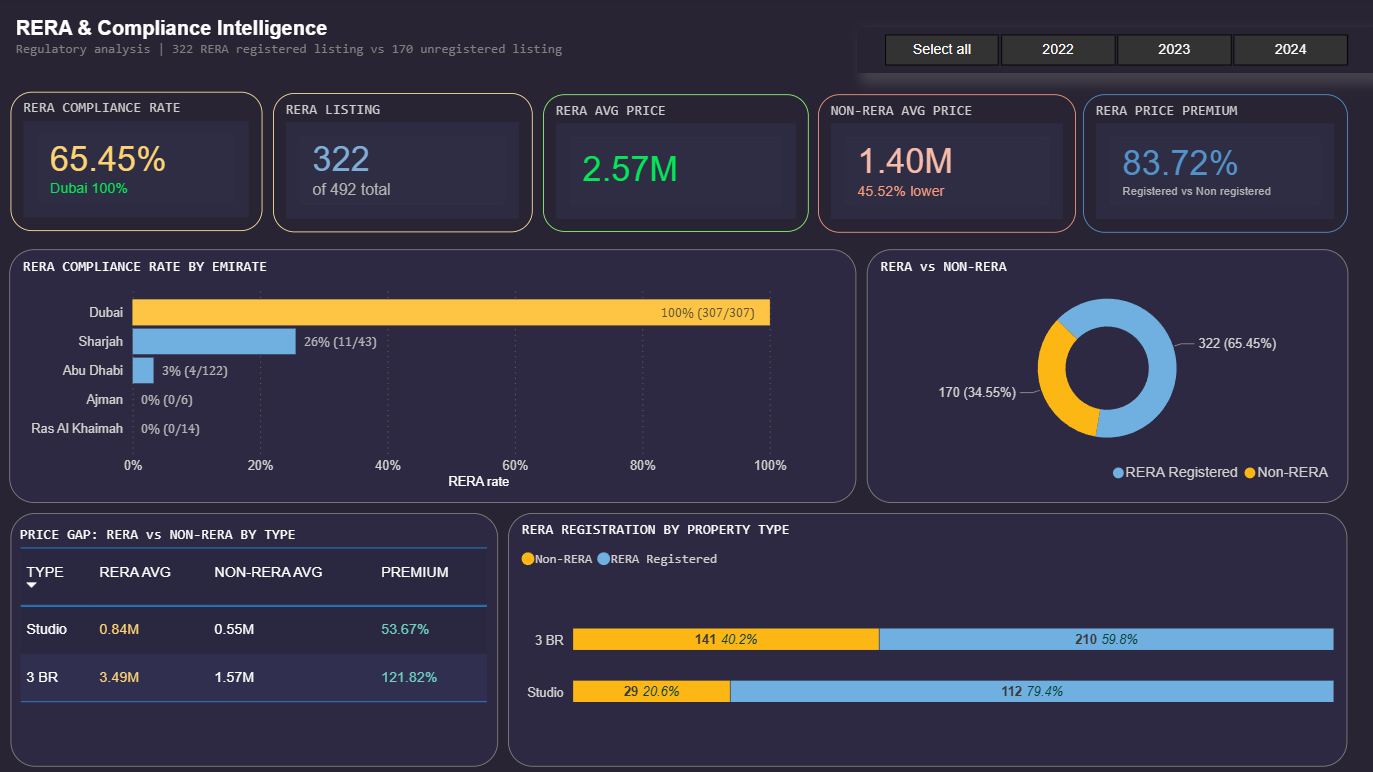

This screenshot's page, from the dashboard's own definition file:
{"tool":"powerbi","page":{"name":"RERA","canvas":[1280,720],"ordinal":1},"visuals":[{"type":"textbox","box":[11.2,12.5,528.8,56.2],"z":0},{"type":"cardVisual","title":"RERA COMPLIANCE RATE","fields":{"Data":["uae_property_db vw_listings_detail.RERA Compliance Rate"]},"box":[11.8,87.1,234.1,129.4],"z":1000},{"type":"clusteredBarChart","title":"RERA COMPLIANCE RATE BY EMIRATE","fields":{"Category":["uae_property_db vw_listings_detail.city"],"Y":["uae_property_db vw_listings_detail.City RERA Rate"]},"box":[10.7,233.3,788.1,235.7],"z":2000},{"type":"hundredPercentStackedBarChart","title":"RERA REGISTRATION BY PROPERTY TYPE","fields":{"Y":["CountNonNull(uae_property_db vw_listings_detail.rera status column)"],"Series":["uae_property_db vw_listings_detail.rera status column"],"Category":["uae_property_db vw_listings_detail.bedroom_category"]},"box":[475,478.6,781,235.7],"z":3000},{"type":"donutChart","title":"RERA vs NON-RERA","fields":{"Category":["uae_property_db vw_listings_detail.rera status column"],"Y":["CountNonNull(uae_property_db vw_listings_detail.rera status column)"]},"box":[808.3,233.3,447.6,235.7],"z":4000},{"type":"tableEx","title":"PRICE GAP: RERA vs NON-RERA BY TYPE","fields":{"Values":["uae_property_db vw_listings_detail.bedroom_category","uae_property_db vw_listings_detail.RERA Avg Price","uae_property_db vw_listings_detail.Non-RERA Avg Price","uae_property_db vw_listings_detail.RERA vs NonRERA Premium %"]},"box":[11.9,478.6,453.6,235.7],"z":6000},{"type":"slicer","title":"City","fields":{"Values":["uae_property_db vw_listings_detail.listing_year"]},"box":[798.8,26.2,481,42.9],"z":7000},{"type":"cardVisual","title":"RERA LISTING","fields":{"Data":["uae_property_db vw_listings_detail.RERA Listings"]},"box":[255.4,88.5,241.5,129.2],"z":8000},{"type":"cardVisual","title":"RERA AVG PRICE","fields":{"Data":["uae_property_db vw_listings_detail.RERA Avg Price"]},"box":[506.7,89.2,247.5,128.3],"z":9000},{"type":"cardVisual","title":"NON-RERA AVG PRICE","fields":{"Data":["uae_property_db vw_listings_detail.Non-RERA Avg Price"]},"box":[762.7,89.3,240,128.7],"z":10000},{"type":"cardVisual","title":"RERA PRICE PREMIUM","fields":{"Data":["uae_property_db vw_listings_detail.RERA Price Premium %"]},"box":[1009.3,89.3,246.7,128.7],"z":11000}]}

Visuals, with their boxes in screenshot pixels (x1, y1, x2, y2), scaled from the page's 1280x720 canvas onto the 1373x772 screenshot:
textbox: box(12, 13, 579, 74)
"RERA COMPLIANCE RATE" cardVisual: box(13, 93, 264, 232)
"RERA COMPLIANCE RATE BY EMIRATE" clusteredBarChart: box(11, 250, 857, 503)
"RERA REGISTRATION BY PROPERTY TYPE" hundredPercentStackedBarChart: box(510, 513, 1347, 766)
"RERA vs NON-RERA" donutChart: box(867, 250, 1347, 503)
"PRICE GAP: RERA vs NON-RERA BY TYPE" tableEx: box(13, 513, 499, 766)
"City" slicer: box(857, 28, 1372, 74)
"RERA LISTING" cardVisual: box(274, 95, 533, 233)
"RERA AVG PRICE" cardVisual: box(544, 96, 809, 233)
"NON-RERA AVG PRICE" cardVisual: box(818, 96, 1076, 234)
"RERA PRICE PREMIUM" cardVisual: box(1083, 96, 1347, 234)
